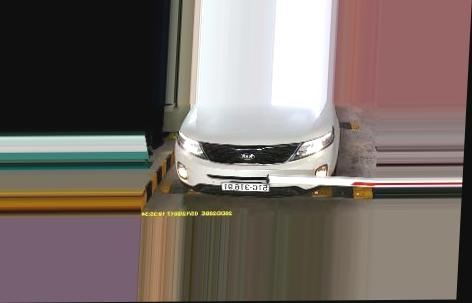License_Plate: (219, 180, 268, 194)
